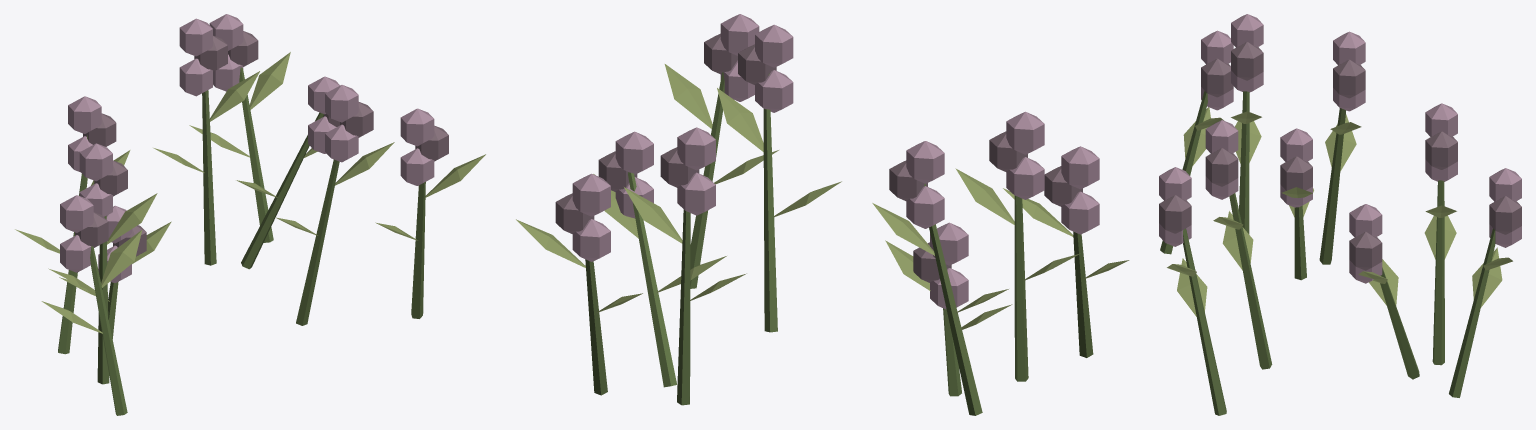
The model's file is NAT_V3_Heather_Patch.glb.
3 renders of one model, left to right at view 1: azimuth 30°, elevation 25°; view 2: azimuth 150°, elevation 25°; view 3: azimuth 270°, elevation 25°, orthographic. The views are drawn at different scales.
Visible parts, largest first — view 1: NAT_V3_Heather_Patch; view 2: NAT_V3_Heather_Patch; view 3: NAT_V3_Heather_Patch.
Part boxes in pixels (left/top/right/bottom): NAT_V3_Heather_Patch: left=15, top=14, right=485, bottom=415; NAT_V3_Heather_Patch: left=516, top=14, right=1129, bottom=415; NAT_V3_Heather_Patch: left=1159, top=14, right=1521, bottom=415.
Bounding box in the file's own units: 1.01 × 0.5671 × 0.7235.
